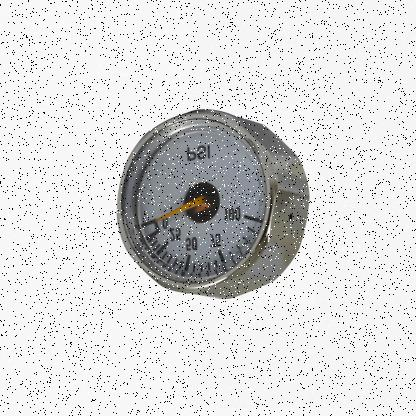needle: (154, 194, 205, 223)
